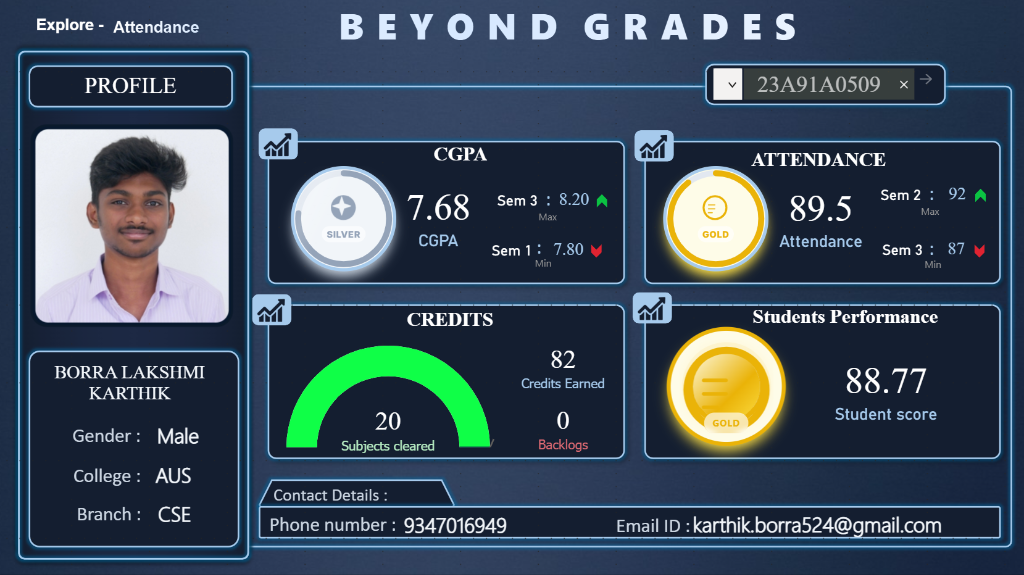

This screenshot's page, from the dashboard's own definition file:
{"tool":"powerbi","page":{"name":"Main page","canvas":[1280,720],"ordinal":0},"visuals":[{"type":"group","id":"g1","title":"permenant section ","box":[18.9,0,1156.4,670.6],"z":0},{"type":"htmlContent443BE3AD55E043BF878BED274D3A6855","title":"sub title ","fields":{"content":["table.AnimatedSubtitleHTML"]},"box":[36,0,291.2,83.2],"z":0,"group":"g1"},{"type":"htmlContent443BE3AD55E043BF878BED274D3A6855","title":"pfp","fields":{"content":["table.L_Card_HTML_Measure"]},"box":[40,156.8,260.8,273.6],"z":0,"group":"g6"},{"type":"group","id":"g2","title":"logo badge","box":[324.7,166.5,51.2,38.6],"z":0,"group":"g7"},{"type":"shape","box":[327,166.5,48.6,38.6],"z":0,"group":"g2"},{"type":"shape","box":[791.1,169.6,48.6,38.6],"z":0,"group":"g12"},{"type":"shape","title":"Attendance title","box":[933.9,185.9,182.4,38.4],"z":0,"group":"g11"},{"type":"shape","box":[789.1,369.4,48.6,38.6],"z":0,"group":"g16"},{"type":"group","id":"g3","title":"logo","box":[317,371.2,51.2,38.6],"z":0,"group":"g9"},{"type":"shape","box":[319.3,371.2,48.6,38.6],"z":0,"group":"g3"},{"type":"cardVisual","title":"Gender","fields":{"Data":["table.Student_gender"]},"box":[146.5,502,162.2,83],"z":0,"group":"g15"},{"type":"cardVisual","title":"college name","fields":{"Data":["table.Student_college"]},"box":[137,550.9,169.2,100.8],"z":0,"group":"g10"},{"type":"shape","title":"contact ","box":[345.1,591.6,221.8,54.5],"z":0,"group":"g4"},{"type":"cardVisual","title":"branch name","fields":{"Data":["table.Student_branch"]},"box":[133.2,599,179,71.4],"z":0,"group":"g13"},{"type":"cardVisual","title":"phone number","fields":{"Data":["table.Student_email"]},"box":[839.2,611.3,424.2,102.5],"z":0,"group":"g8"},{"type":"cardVisual","title":"phone number","fields":{"Data":["table.Student_phonenum"]},"box":[482,612.6,253,102.5],"z":0,"group":"g5"},{"type":"htmlContent443BE3AD55E043BF878BED274D3A6855","title":"Title","fields":{"content":["table.LDashboardTitleHTML"]},"box":[334.3,0,761.6,131.2],"z":1000,"group":"g1"},{"type":"shape","title":"profile ","box":[54.3,93.9,227.5,39.7],"z":1000,"group":"g6"},{"type":"image","box":[324.7,169.5,51.2,33.6],"z":1000,"group":"g2"},{"type":"image","box":[788.8,172.6,51.2,33.6],"z":1000,"group":"g12"},{"type":"lineChart","title":"sem line chart","fields":{"Category":["sem wise attendance data.Attribute"],"Y":["Sum(sem wise attendance data.Value)"]},"box":[805.6,215,432,146.1],"z":1000,"group":"g11"},{"type":"image","box":[786.8,372.4,51.2,33.6],"z":1000,"group":"g16"},{"type":"image","box":[317,374.2,51.2,33.6],"z":1000,"group":"g3"},{"type":"shape","title":"Credits title","box":[510.4,374.4,132.8,56],"z":1000,"group":"g9"},{"type":"shape","box":[35.4,517.5,207.3,56.4],"z":1000,"group":"g15"},{"type":"shape","box":[28.5,567.5,222.4,54.5],"z":1000,"group":"g10"},{"type":"group","id":"g4","title":"contact section","box":[307.5,591.6,955.9,123.5],"z":1000},{"type":"group","id":"g5","title":"phone number","box":[307.5,612.6,427.5,102.5],"z":1000,"group":"g4"},{"type":"shape","box":[18.9,613.7,245.4,56.9],"z":1000,"group":"g13"},{"type":"shape","title":"phone shape","box":[307.5,629.1,221.8,54.5],"z":1000,"group":"g5"},{"type":"shape","box":[703.2,629.1,221.8,54.5],"z":1000,"group":"g8"},{"type":"group","id":"g6","title":"profile section","box":[18.9,93.9,293.3,576.7],"z":2000,"group":"g1"},{"type":"group","id":"g7","title":"Cgpa card","box":[323.3,165.4,507.3,202.2],"z":2000},{"type":"lineChart","title":"sem line chart","fields":{"Category":["sem wise cgpa data.sem name"],"Y":["Sum(sem wise data.Value)"]},"box":[337.9,204.8,431.4,145.9],"z":2000,"group":"g7"},{"type":"shape","title":"Credits title","box":[914.1,369.4,273.4,60.5],"z":2000,"group":"g14"},{"type":"cardVisual","title":"Student name","fields":{"Data":["table.Student_Name"]},"box":[29.4,430,276.3,160.9],"z":2000,"group":"g6"},{"type":"cardVisual","title":"total backlogs","fields":{"Data":["table.Student_backlogs"]},"box":[605.7,461.4,194.3,152.9],"z":2000,"group":"g9"},{"type":"group","id":"g8","title":"email","box":[703.2,611.3,560.3,102.5],"z":2000,"group":"g4"},{"type":"textSlicer","fields":{"Values":["roll numbers.Roll number"]},"box":[858.1,83,317.2,48],"z":3000,"group":"g1"},{"type":"group","id":"g9","title":"credits card","box":[317,371.2,483,244.5],"z":3000},{"type":"cardVisual","title":"subjects cleared","fields":{"Data":["table.Student_subjectscleared"]},"box":[390,462.9,194.3,152.9],"z":3000,"group":"g9"},{"type":"group","id":"g10","title":"College","box":[28.5,550.9,277.8,100.8],"z":3000,"group":"g6"},{"type":"group","id":"g11","title":"Attendance card","box":[788,169,472.8,202.2],"z":4000},{"type":"group","id":"g12","title":"logo badge","box":[788.8,169.6,51.2,38.4],"z":4000,"group":"g11"},{"type":"shape","title":"cgpa title","box":[542.5,170,82.5,56.2],"z":4000,"group":"g7"},{"type":"cardVisual","title":"Total credits earned ","fields":{"Data":["table.Student_credits"]},"box":[605.7,387.1,194.3,150],"z":4000,"group":"g9"},{"type":"group","id":"g13","title":"Branch","box":[18.9,599,293.3,71.6],"z":4000,"group":"g6"},{"type":"group","id":"g14","title":"Student performance","box":[771.5,369.4,453.5,212.2],"z":5000},{"type":"cardVisual","title":"Student score ","fields":{"Data":["table.Student_performance_score"]},"box":[978.8,421.6,246.3,141.9],"z":5000,"group":"g14"},{"type":"gauge","title":"Cleared subjects","fields":{"MaxValue":["table.Total Subjects"],"TargetValue":["table.Student_subjectscleared"],"Y":["table.Student_subjectscleared"]},"box":[327.7,429.9,319.3,135.7],"z":5000,"group":"g9"},{"type":"group","id":"g15","title":"gender","box":[35.4,502,273.2,83],"z":5000,"group":"g6"},{"type":"group","id":"g16","title":"logo badge","box":[786.8,369.4,52.2,39.7],"z":6000,"group":"g14"},{"type":"htmlContent443BE3AD55E043BF878BED274D3A6855","fields":{"content":["table.Student Score Medal HTML"]},"box":[771.5,400,264.6,181.6],"z":7000,"group":"g14"}]}

Visuals, with their boxes in screenshot pixels (x1, y1, x2, y2), scaled from the page's 1280x720 canvas onto the 1024x575 screenshot:
"permenant section " group: l=15, t=0, r=940, b=536
"sub title " htmlContent443BE3AD55E043BF878BED274D3A6855: l=29, t=0, r=262, b=66
"pfp" htmlContent443BE3AD55E043BF878BED274D3A6855: l=32, t=125, r=241, b=344
"logo badge" group: l=260, t=133, r=301, b=164
shape: l=262, t=133, r=300, b=164
shape: l=633, t=135, r=672, b=166
"Attendance title" shape: l=747, t=148, r=893, b=179
shape: l=631, t=295, r=670, b=326
"logo" group: l=254, t=296, r=295, b=327
shape: l=255, t=296, r=294, b=327
"Gender" cardVisual: l=117, t=401, r=247, b=467
"college name" cardVisual: l=110, t=440, r=245, b=520
"contact " shape: l=276, t=472, r=454, b=516
"branch name" cardVisual: l=107, t=478, r=250, b=535
"phone number" cardVisual: l=671, t=488, r=1011, b=570
"phone number" cardVisual: l=386, t=489, r=588, b=571
"Title" htmlContent443BE3AD55E043BF878BED274D3A6855: l=267, t=0, r=877, b=105
"profile " shape: l=43, t=75, r=225, b=107
image: l=260, t=135, r=301, b=162
image: l=631, t=138, r=672, b=165
"sem line chart" lineChart: l=644, t=172, r=990, b=288
image: l=629, t=297, r=670, b=324
image: l=254, t=299, r=295, b=326
"Credits title" shape: l=408, t=299, r=515, b=344
shape: l=28, t=413, r=194, b=458
shape: l=23, t=453, r=201, b=497
"contact section" group: l=246, t=472, r=1011, b=571
"phone number" group: l=246, t=489, r=588, b=571
shape: l=15, t=490, r=211, b=536
"phone shape" shape: l=246, t=502, r=423, b=546
shape: l=563, t=502, r=740, b=546
"profile section" group: l=15, t=75, r=250, b=536
"Cgpa card" group: l=259, t=132, r=664, b=294
"sem line chart" lineChart: l=270, t=164, r=615, b=280
"Credits title" shape: l=731, t=295, r=950, b=343
"Student name" cardVisual: l=24, t=343, r=245, b=472
"total backlogs" cardVisual: l=485, t=368, r=640, b=491
"email" group: l=563, t=488, r=1011, b=570
textSlicer - roll numbers.Roll number: l=686, t=66, r=940, b=105
"credits card" group: l=254, t=296, r=640, b=492
"subjects cleared" cardVisual: l=312, t=370, r=467, b=492
"College" group: l=23, t=440, r=245, b=520
"Attendance card" group: l=630, t=135, r=1009, b=296
"logo badge" group: l=631, t=135, r=672, b=166
"cgpa title" shape: l=434, t=136, r=500, b=181
"Total credits earned " cardVisual: l=485, t=309, r=640, b=429
"Branch" group: l=15, t=478, r=250, b=536
"Student performance" group: l=617, t=295, r=980, b=464
"Student score " cardVisual: l=783, t=337, r=980, b=450
"Cleared subjects" gauge: l=262, t=343, r=518, b=452
"gender" group: l=28, t=401, r=247, b=467
"logo badge" group: l=629, t=295, r=671, b=327
htmlContent443BE3AD55E043BF878BED274D3A6855 - table.Student Score Medal HTML: l=617, t=319, r=829, b=464
